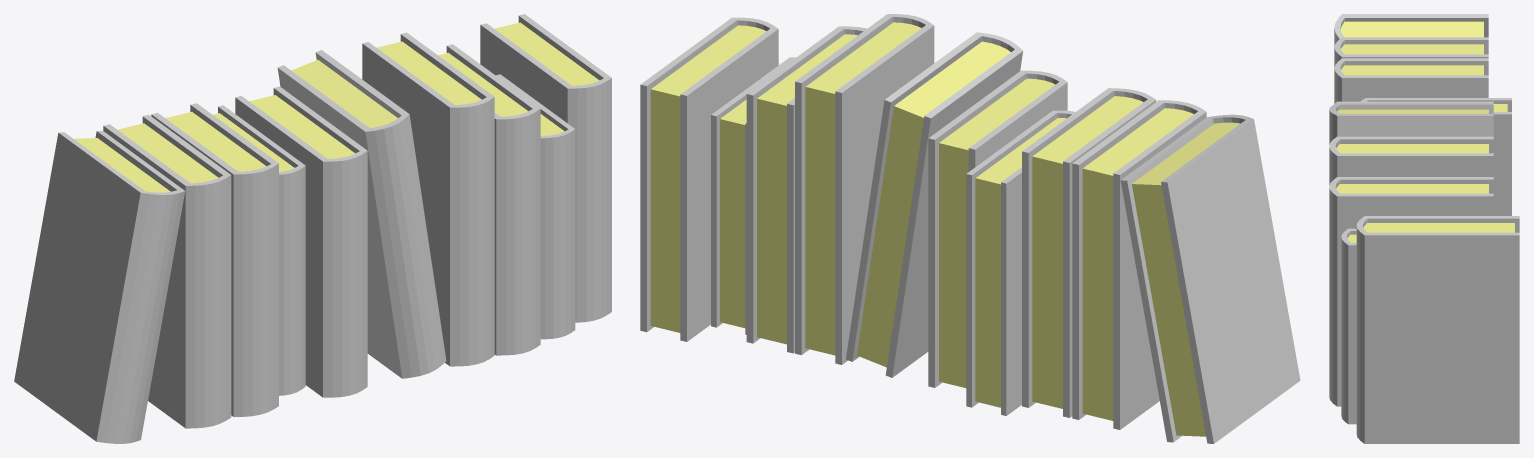
Rendered from books2.fbx.
3 renders of one model, left to right at view 1: azimuth 30°, elevation 25°; view 2: azimuth 150°, elevation 25°; view 3: azimuth 270°, elevation 25°, orthographic. The views are drawn at different scales.
Visible parts, largest first — view 1: Box022, Box013, Box017, Box021, Box018, Box016, Box020, Box014, Box015, Box019, Group010, Group011 (+7 smaller); view 2: Box022, Box013, Box016, Box017, Box021, Group010, Group006, Group014, Group013, Group009, Group015, Group011 (+8 smaller); view 3: Box016, Box014, Box013, Box017, Box020, Box015, Box019, Group015, Box021, Group014, Group013, Group007 (+5 smaller).
Boxes of the visible parts, bbox=[...] form: Box022: bbox=[14, 130, 185, 443]; Box013: bbox=[362, 32, 494, 366]; Box017: bbox=[277, 50, 446, 378]; Box021: bbox=[103, 114, 231, 428]; Box018: bbox=[235, 86, 367, 397]; Box016: bbox=[480, 14, 611, 322]; Box020: bbox=[151, 103, 278, 416]; Box014: bbox=[446, 44, 540, 355]; Box015: bbox=[496, 74, 575, 339]; Box019: bbox=[218, 105, 305, 395]; Group010: bbox=[291, 60, 397, 127]; Group011: bbox=[249, 95, 354, 158]; Box022: bbox=[1120, 114, 1300, 443]; Box013: bbox=[795, 14, 934, 364]; Box016: bbox=[640, 17, 778, 341]; Box017: bbox=[846, 32, 1023, 377]; Box021: bbox=[1072, 100, 1206, 429]; Group010: bbox=[857, 41, 1010, 367]; Group006: bbox=[805, 22, 921, 355]; Group014: bbox=[1082, 108, 1193, 420]; Group013: bbox=[1032, 96, 1143, 408]; Group009: bbox=[650, 25, 766, 332]; Group015: bbox=[1132, 122, 1240, 436]; Group011: bbox=[939, 78, 1055, 387]; Box016: bbox=[1356, 216, 1519, 443]; Box014: bbox=[1329, 177, 1493, 406]; Box013: bbox=[1329, 136, 1493, 185]; Box017: bbox=[1329, 103, 1493, 144]; Box020: bbox=[1334, 58, 1488, 103]; Box015: bbox=[1341, 228, 1356, 424]; Box019: bbox=[1361, 98, 1511, 215]; Group015: bbox=[1340, 21, 1483, 37]; Box021: bbox=[1334, 37, 1488, 67]; Group014: bbox=[1341, 44, 1483, 54]; Group013: bbox=[1341, 65, 1483, 75]; Group007: bbox=[1336, 184, 1488, 193].
Size of the model in its own units: 8.58 by 4.08 by 3.01.
